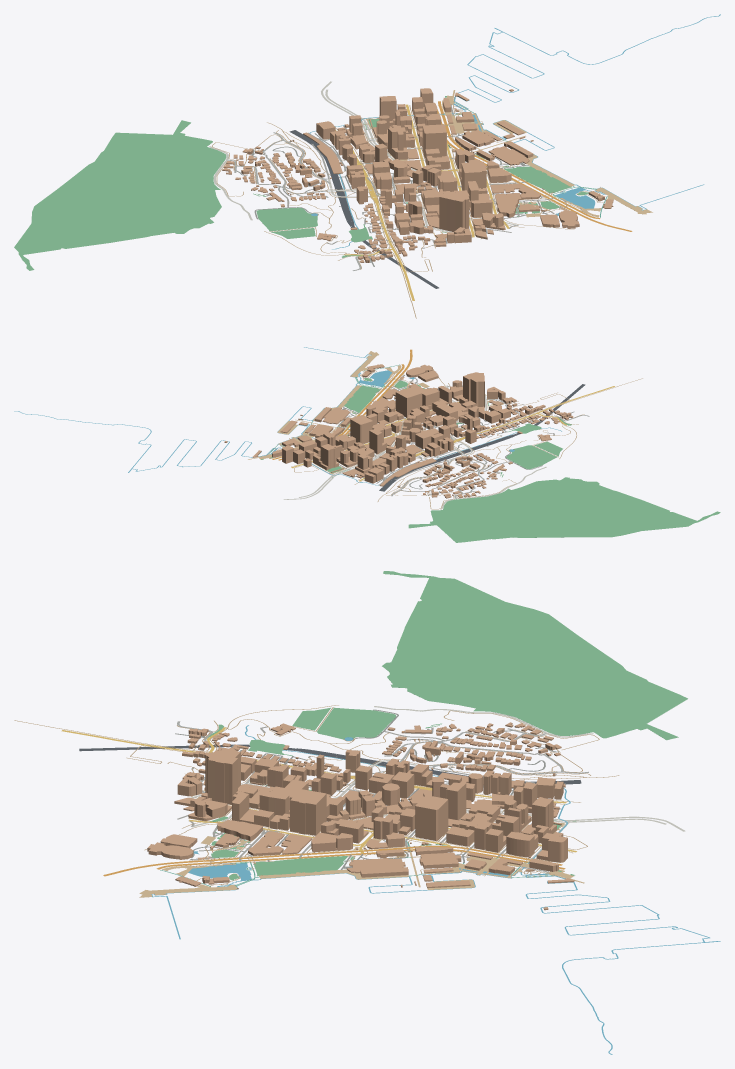
3 views of the same model, one above another, from view 1: azimuth 30°, elevation 25°; view 2: azimuth 150°, elevation 25°; view 3: azimuth 270°, elevation 25° (orthographic). The views are drawn at different scales.
Parts seen in each view (by area): view 1: OSM layers; view 2: OSM layers; view 3: OSM layers.
Part boxes in pixels (x1,y1,x2,y2): OSM layers: (14,14,720,318); OSM layers: (14,347,720,542); OSM layers: (14,571,720,1054).
Bounding box in the file's own units: 2429 × 95.94 × 1500.
